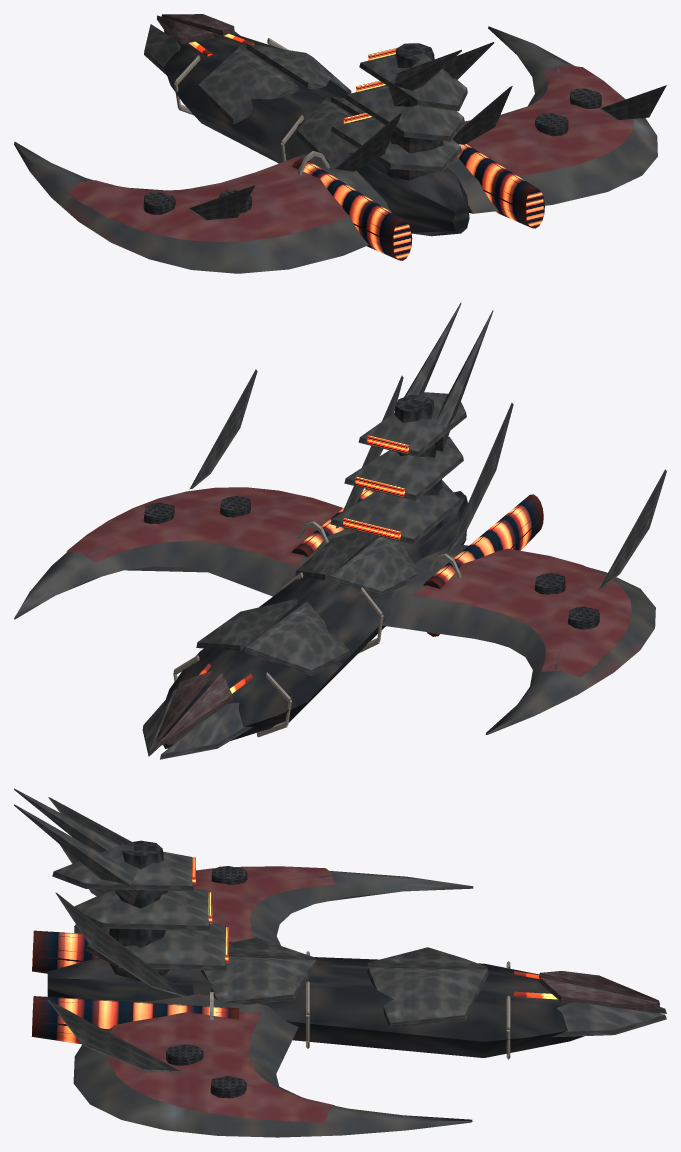
Rendered from dynasty_cruiser_recreated_lod2.glb.
The picture shows the model from 3 angles, top to bottom: view 1: azimuth 30°, elevation 25°; view 2: azimuth 150°, elevation 25°; view 3: azimuth 270°, elevation 25°; orthographic projection.
Parts seen in each view (by area): view 1: dynasty_cruiser_far_source; view 2: dynasty_cruiser_far_source; view 3: dynasty_cruiser_far_source.
Part boxes in pixels (left/top/right/bottom): dynasty_cruiser_far_source: left=14, top=14, right=666, bottom=273; dynasty_cruiser_far_source: left=14, top=302, right=666, bottom=759; dynasty_cruiser_far_source: left=14, top=788, right=666, bottom=1137.
Bounding box in the file's own units: 2.73 × 1.2 × 2.85.
Materials: 1 (1 with a texture image).
